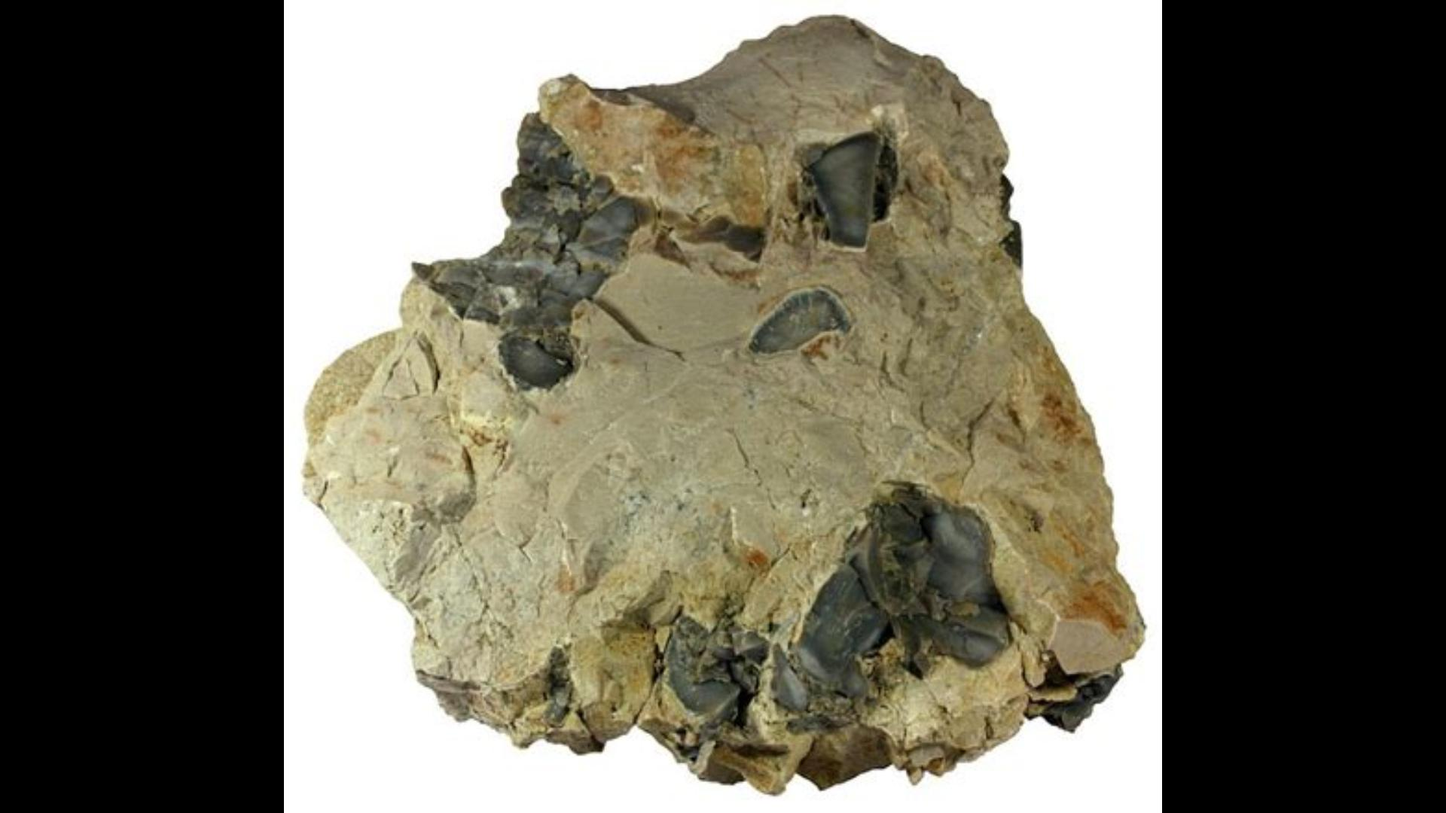rock: (304, 17, 1142, 791)
